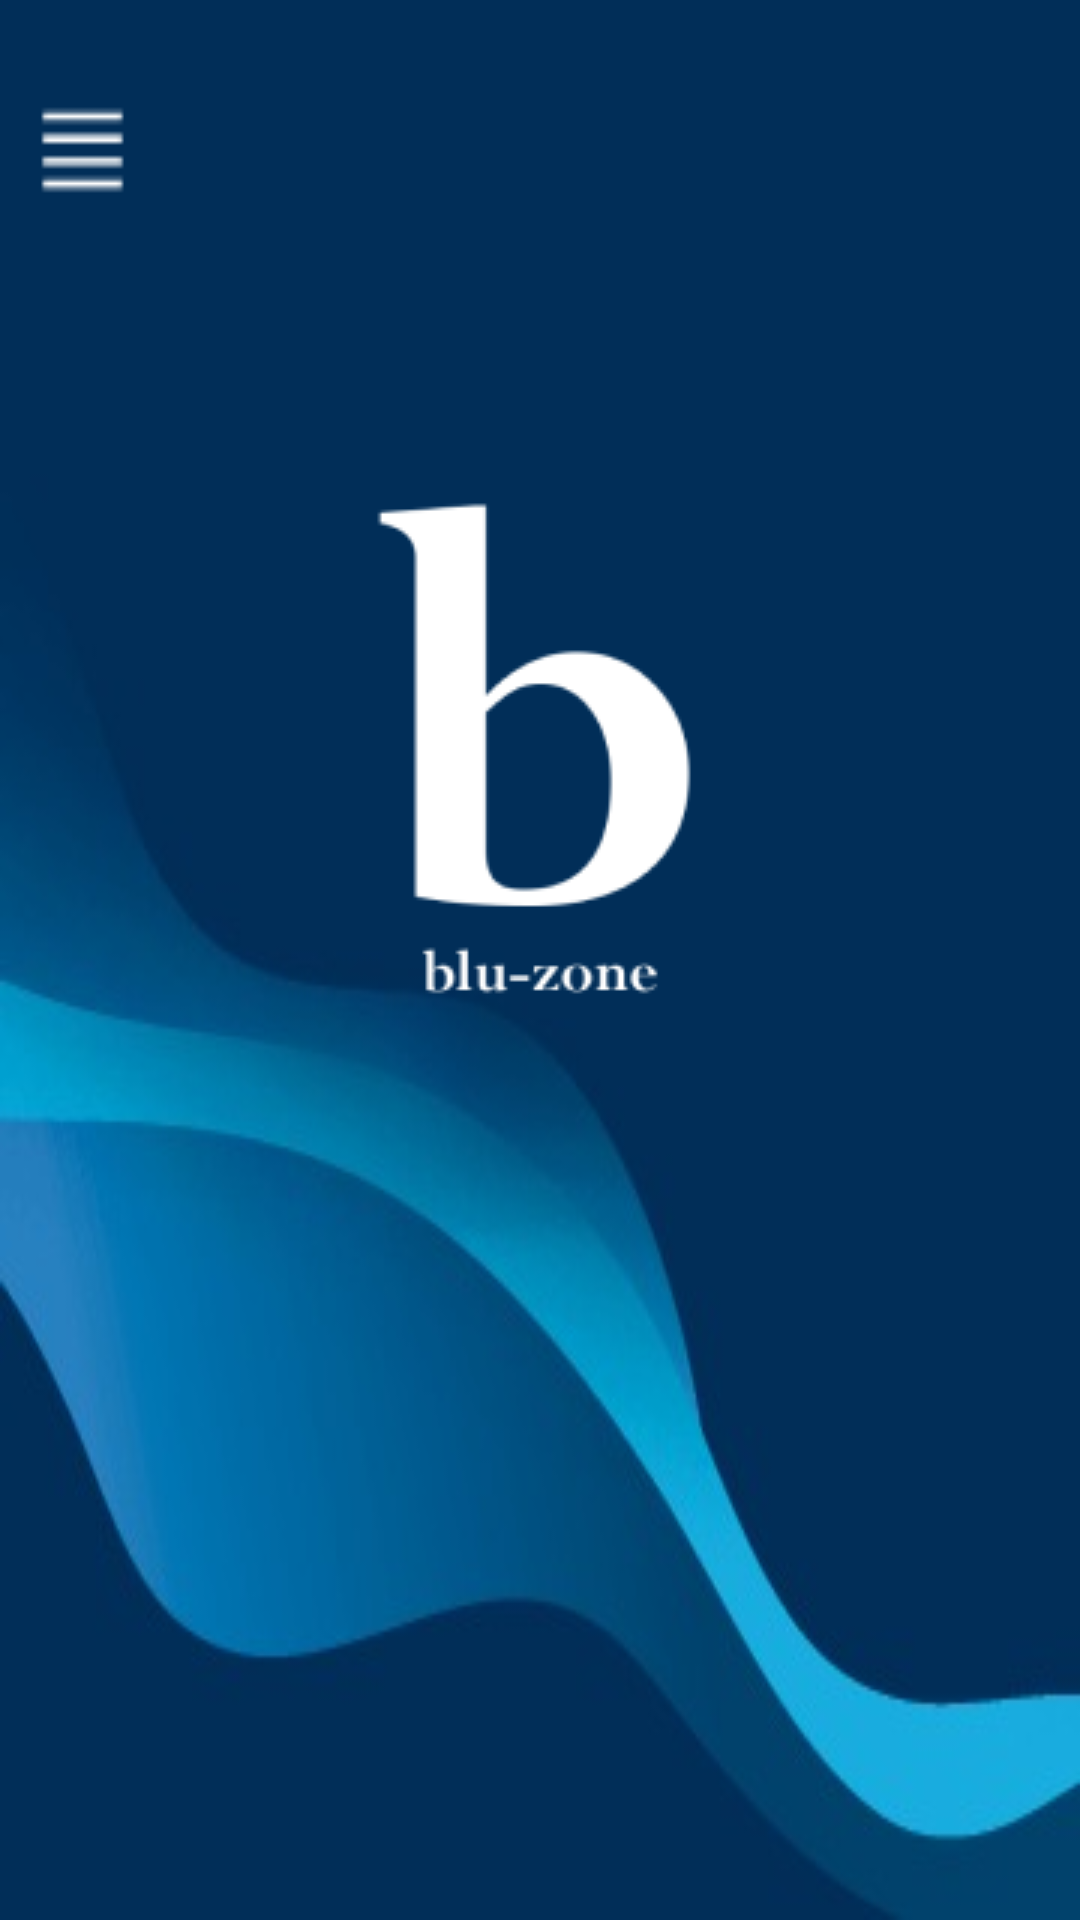

Point at icon controls on the screen. Image size 1080px x 1920px, points as point (x, y).
menu: point (82, 150)
